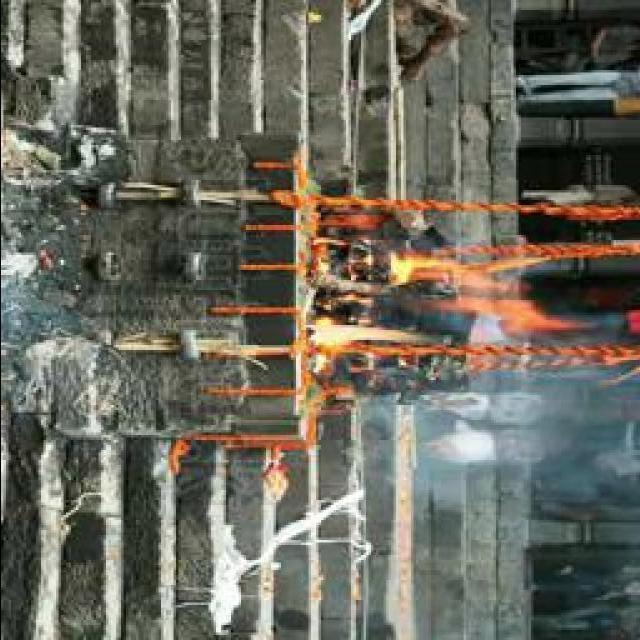Fire: (304, 249, 560, 358)
